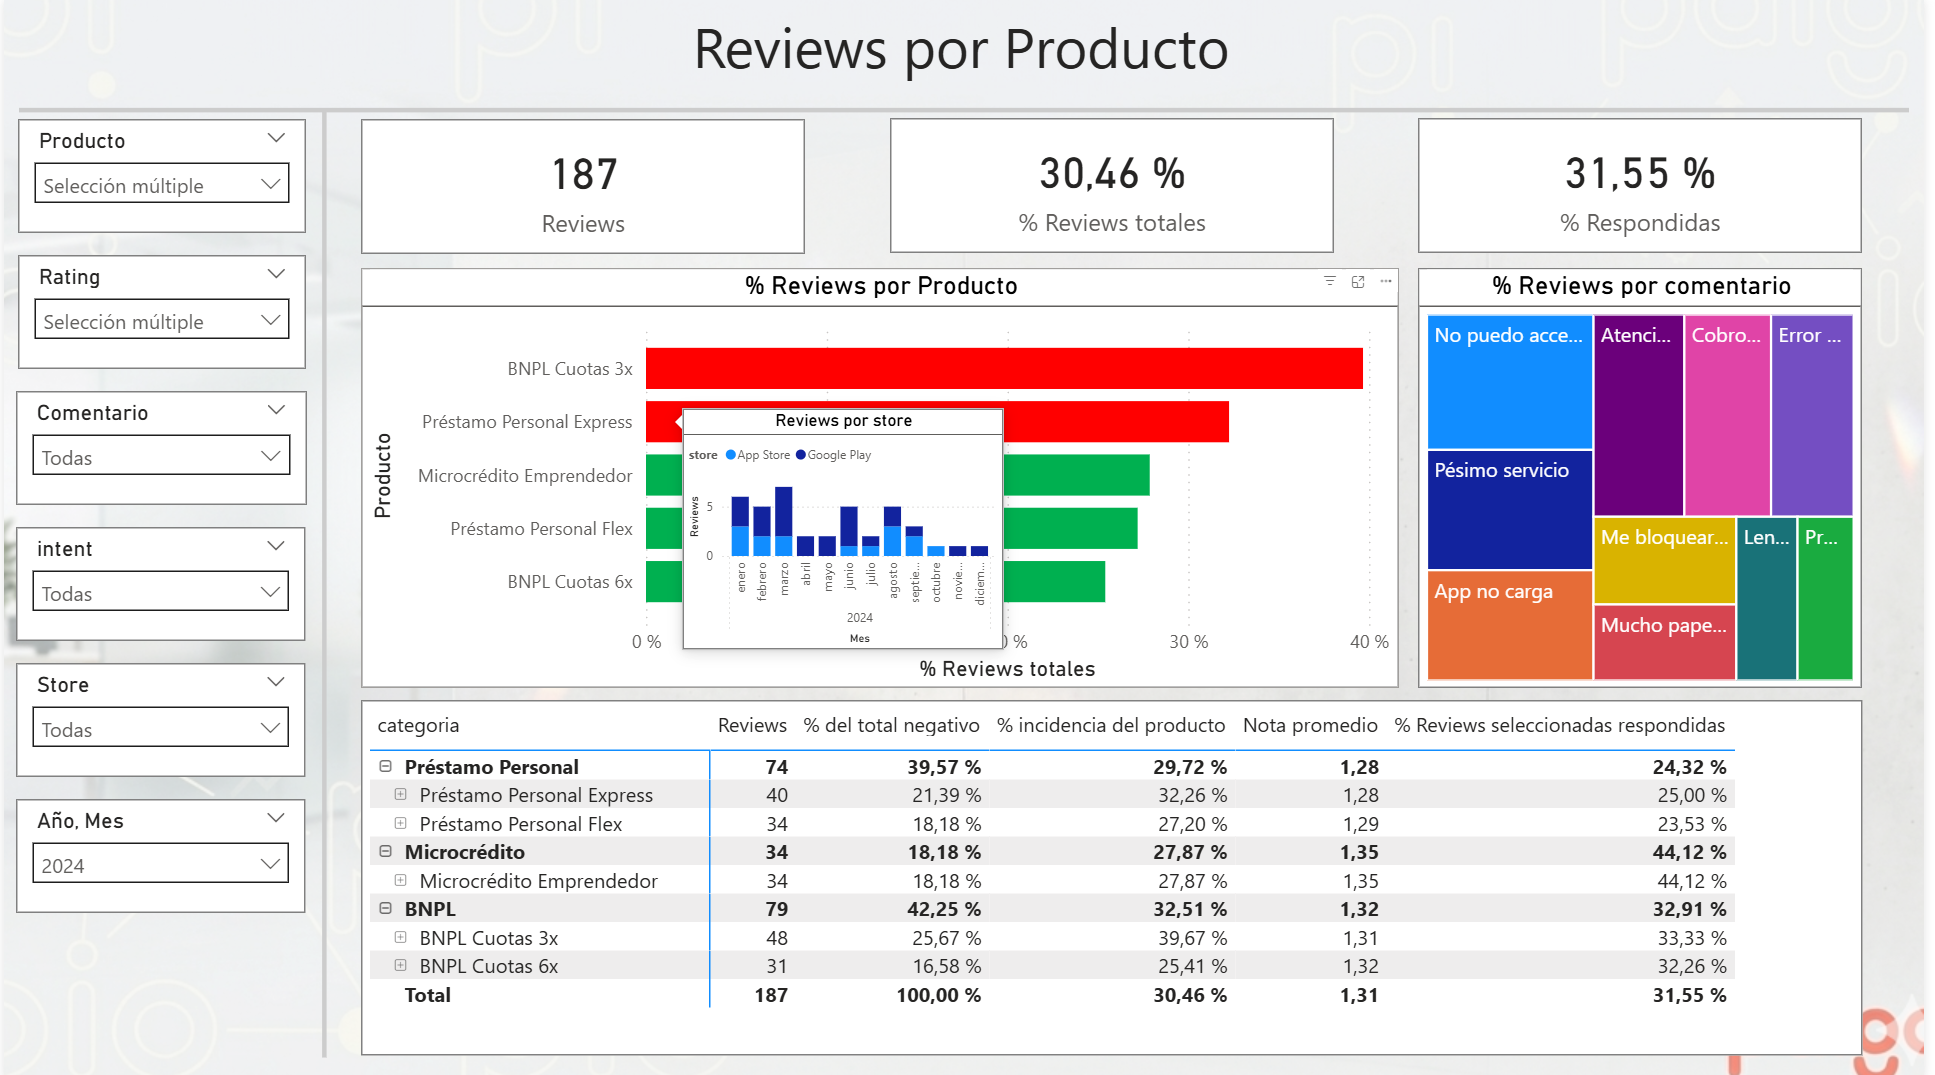

The dashboard page shown, as its layout file describes it:
{"tool":"powerbi","page":{"name":"Reviews por Producto","canvas":[1280,720],"ordinal":0},"visuals":[{"type":"barChart","title":"% Reviews por Producto","fields":{"Category":["Productos.nombre_producto"],"Y":["DAX.% reviews totales"]},"box":[238,178.7,692,280],"z":0},{"type":"basicShape","box":[0,57.1,1280,32.1],"z":1000},{"type":"textbox","box":[0,0,1276.2,64],"z":2000},{"type":"basicShape","box":[189.6,63.9,48.5,651],"z":3000},{"type":"card","fields":{"Values":["DAX.Reviews"]},"box":[237.9,79.4,296.4,90],"z":4000},{"type":"card","fields":{"Values":["DAX.% reviews totales"]},"box":[590.4,78.7,296.4,90],"z":5000},{"type":"card","fields":{"Values":["DAX.% Revies seleccionadas respondidas"]},"box":[942.9,78.7,296.4,90],"z":6000},{"type":"treemap","title":"% Reviews por comentario","fields":{"Group":["Reviews_stores.comentario"],"Values":["DAX.% Reviews seleccionadas"]},"box":[942.9,178.6,296.4,280],"z":7000},{"type":"pivotTable","fields":{"Rows":["Productos.categoria","Productos.nombre_producto","Reviews_stores.comentario"],"Values":["DAX.Reviews","DAX.% reviews seleccionadas","DAX.% reviews totales detallado","DAX.AVG notas seleccionadas","DAX.% Revies seleccionadas respondidas"]},"box":[237.9,466.4,1001.4,237.1],"z":8000},{"type":"slicer","fields":{"Values":["Reviews_stores.rating"]},"box":[9.3,170,192.1,76],"z":9000},{"type":"slicer","fields":{"Values":["Productos.nombre_producto"]},"box":[9.3,79.4,192.1,76],"z":10000},{"type":"slicer","fields":{"Values":["Reviews_stores.comentario"]},"box":[7.9,260.7,193.6,76],"z":11000},{"type":"slicer","fields":{"Values":["Reviews_stores.store"]},"box":[8,442,193.3,76],"z":12000},{"type":"slicer","fields":{"Values":["Dim_Calendar DAX.Date.Variación.Jerarquía de fechas.Año","Dim_Calendar DAX.Date.Variación.Jerarquía de fechas.Mes"]},"box":[8,532.7,193.3,76],"z":13000},{"type":"slicer","fields":{"Values":["Bot_chats.intent_primario"]},"box":[8,351.4,193.3,76],"z":14000}]}

Visuals, with their boxes in screenshot pixels (x1, y1, x2, y2), scaled from the page's 1280x720 canvas onto the 1935x1075 screenshot:
"% Reviews por Producto" barChart: 360,267,1406,685
basicShape: 0,85,1934,133
textbox: 0,0,1929,96
basicShape: 287,95,360,1067
card - DAX.Reviews: 360,119,808,253
card - DAX.% reviews totales: 893,118,1341,252
card - DAX.% Revies seleccionadas respondidas: 1425,118,1873,252
"% Reviews por comentario" treemap: 1425,267,1873,685
pivotTable - Productos.categoria x Productos.nombre_producto: 360,696,1873,1050
slicer - Reviews_stores.rating: 14,254,304,367
slicer - Productos.nombre_producto: 14,119,304,232
slicer - Reviews_stores.comentario: 12,389,305,503
slicer - Reviews_stores.store: 12,660,304,773
slicer - Dim_Calendar DAX.Date.Variación.Jerarquía de fechas.Año x Dim_Calendar DAX.Date.Variación.Jerarquía de fechas.Mes: 12,795,304,909
slicer - Bot_chats.intent_primario: 12,525,304,638
